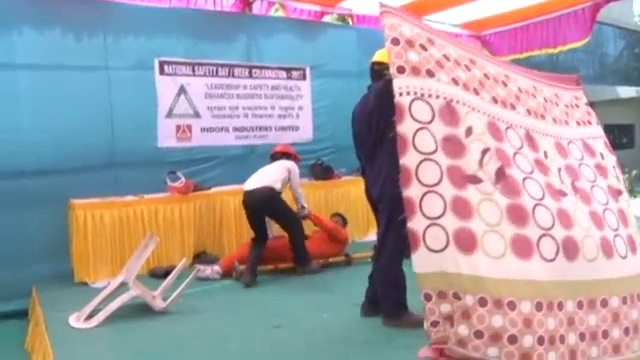helmet: (269, 142, 299, 161), (370, 45, 391, 67)
helmet_off: (328, 211, 350, 231)
helmet_on: (367, 44, 391, 77), (268, 141, 302, 164)
person: (350, 45, 424, 328), (233, 142, 321, 286), (200, 212, 350, 280)
